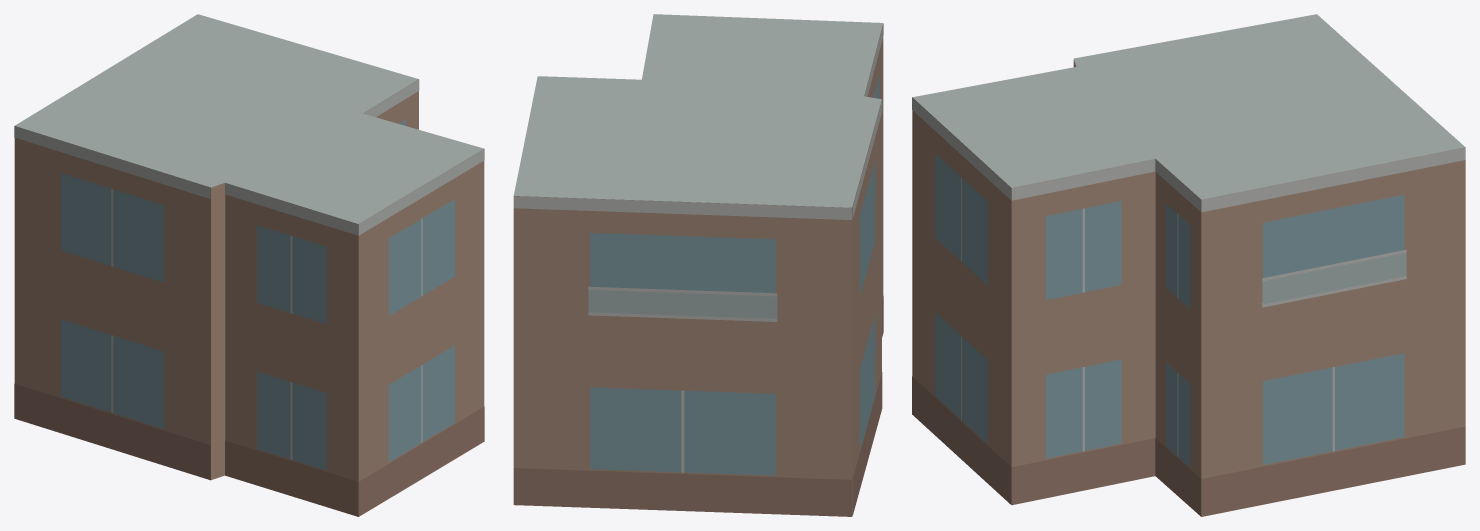
Rendered from survey-upis-32530544.glb.
3 views of the same model, side by side, from view 1: azimuth 30°, elevation 25°; view 2: azimuth 150°, elevation 25°; view 3: azimuth 270°, elevation 25° (orthographic). The views are drawn at different scales.
Visible parts, largest first — view 1: survey-upis-32530544.tmp; view 2: survey-upis-32530544.tmp; view 3: survey-upis-32530544.tmp.
Boxes of the visible parts, bbox=[...] form: survey-upis-32530544.tmp: bbox=[14, 14, 484, 516]; survey-upis-32530544.tmp: bbox=[513, 14, 883, 516]; survey-upis-32530544.tmp: bbox=[912, 14, 1465, 516].
Size of the model in its own units: 7.67 by 6.1 by 9.66.
